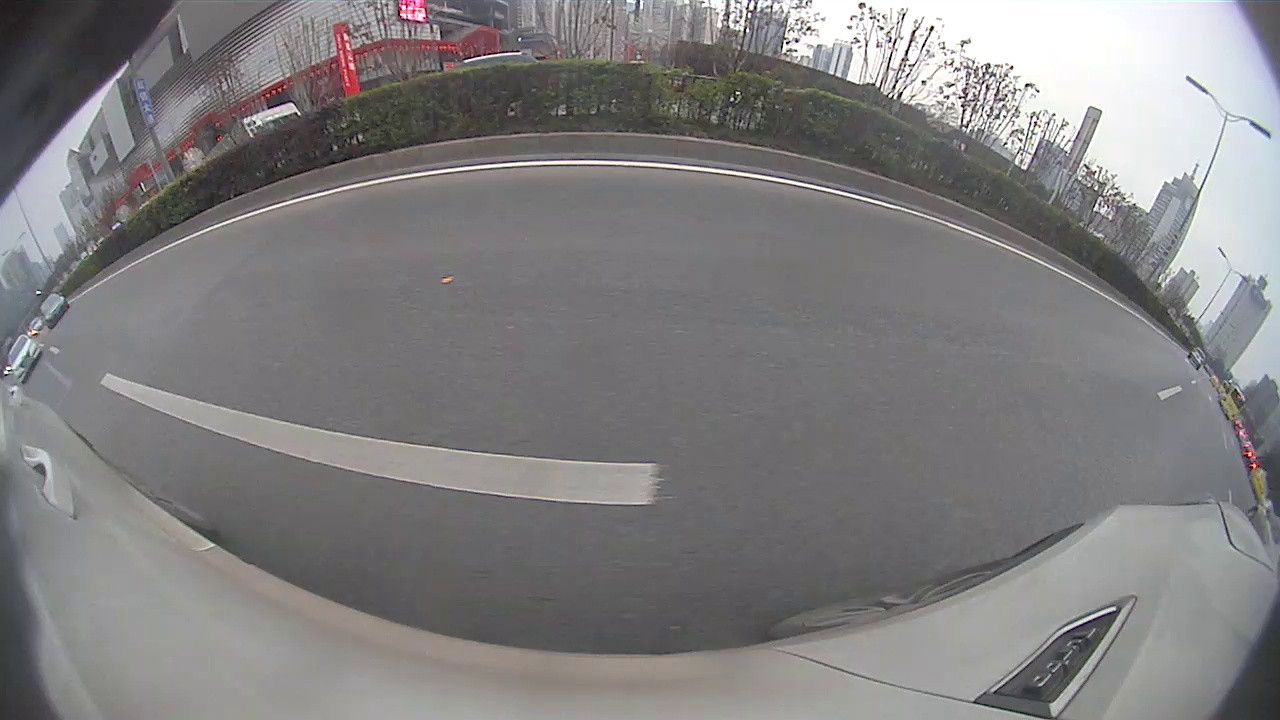car: (4, 334, 40, 380), (38, 293, 68, 325)
